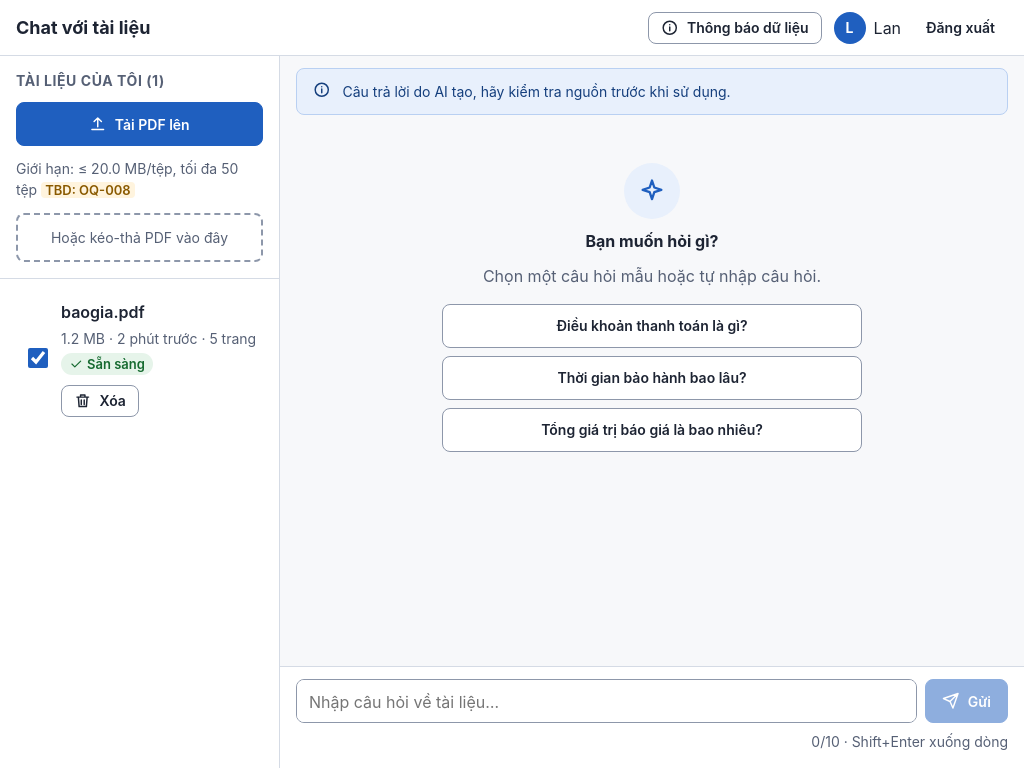
Test case: Workspace — hỏi đáp và nguồn dẫn › quá độ dài: khóa Gửi kèm lý do
This screenshot has width=1024, height=768.
Type "mười một ký tự" into the text box named "Câu hỏi của bạn".
click(607, 701); type("mười một ký tự")  # box [296,679,917,723]
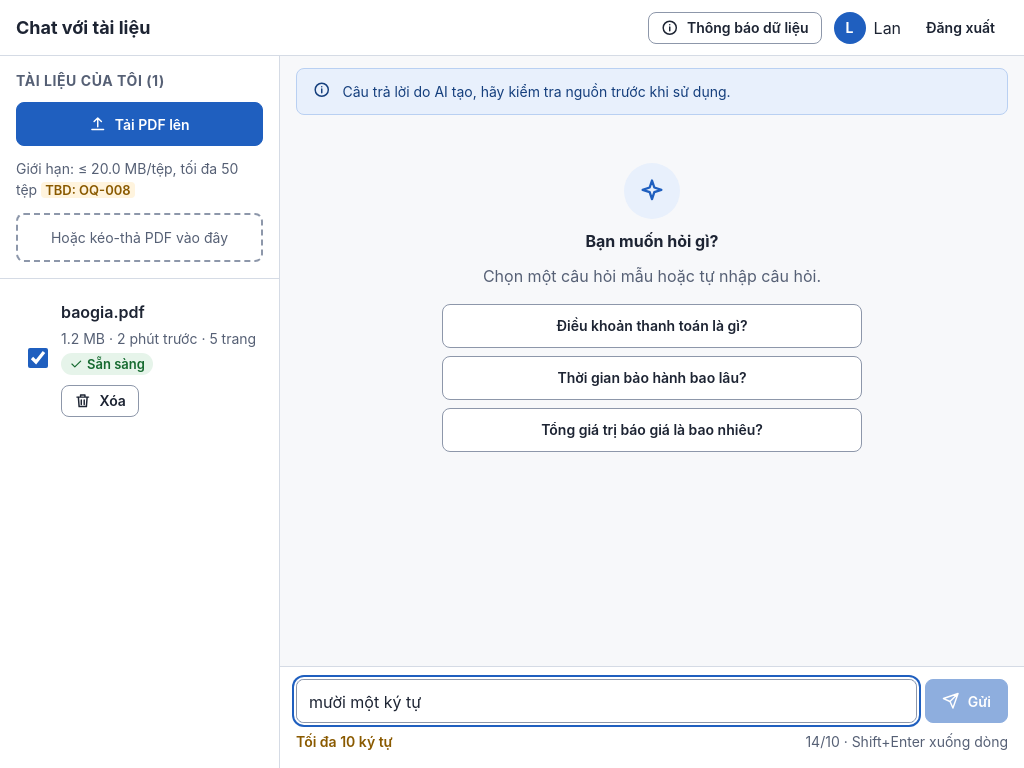
Expected: the button with aria-label "Gửi câu hỏi" is disabled, [925,679,1008,723]
Expected: the text "Tối đa 10 ký tự" is shown, [296,731,393,752]
